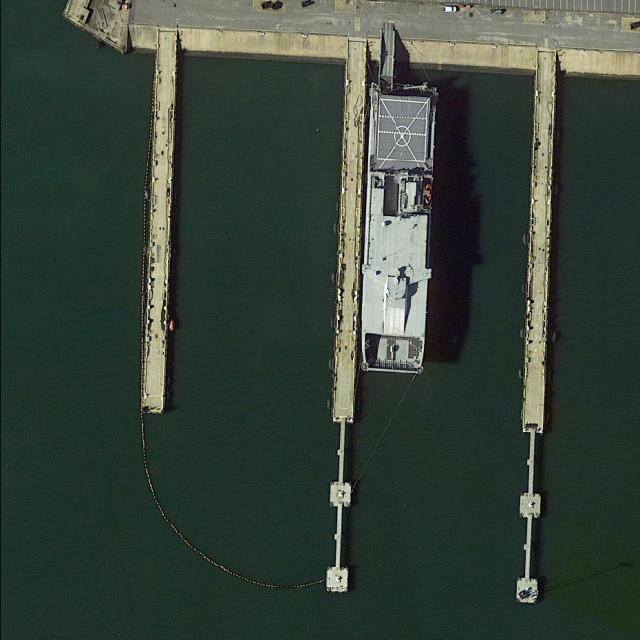Auxiliary Ships: (355, 81, 440, 376)
Dock: (139, 52, 178, 414), (519, 76, 557, 432), (330, 60, 367, 422)
